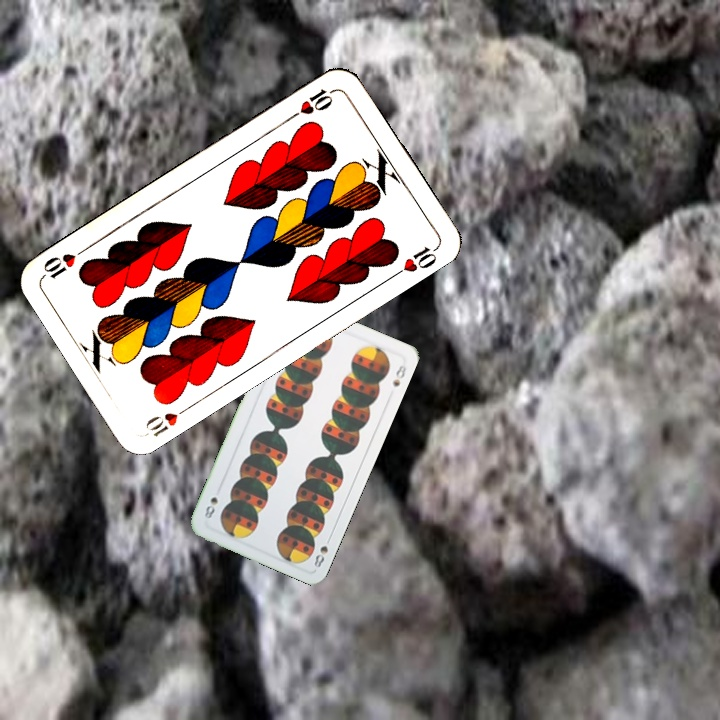H10: (141, 400, 195, 440), (285, 84, 338, 122)
S8: (310, 532, 334, 570)
